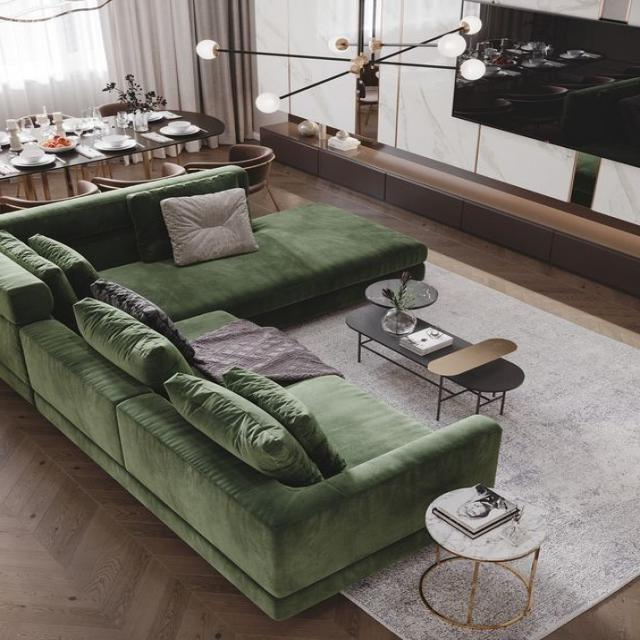couch: (1, 165, 503, 622)
